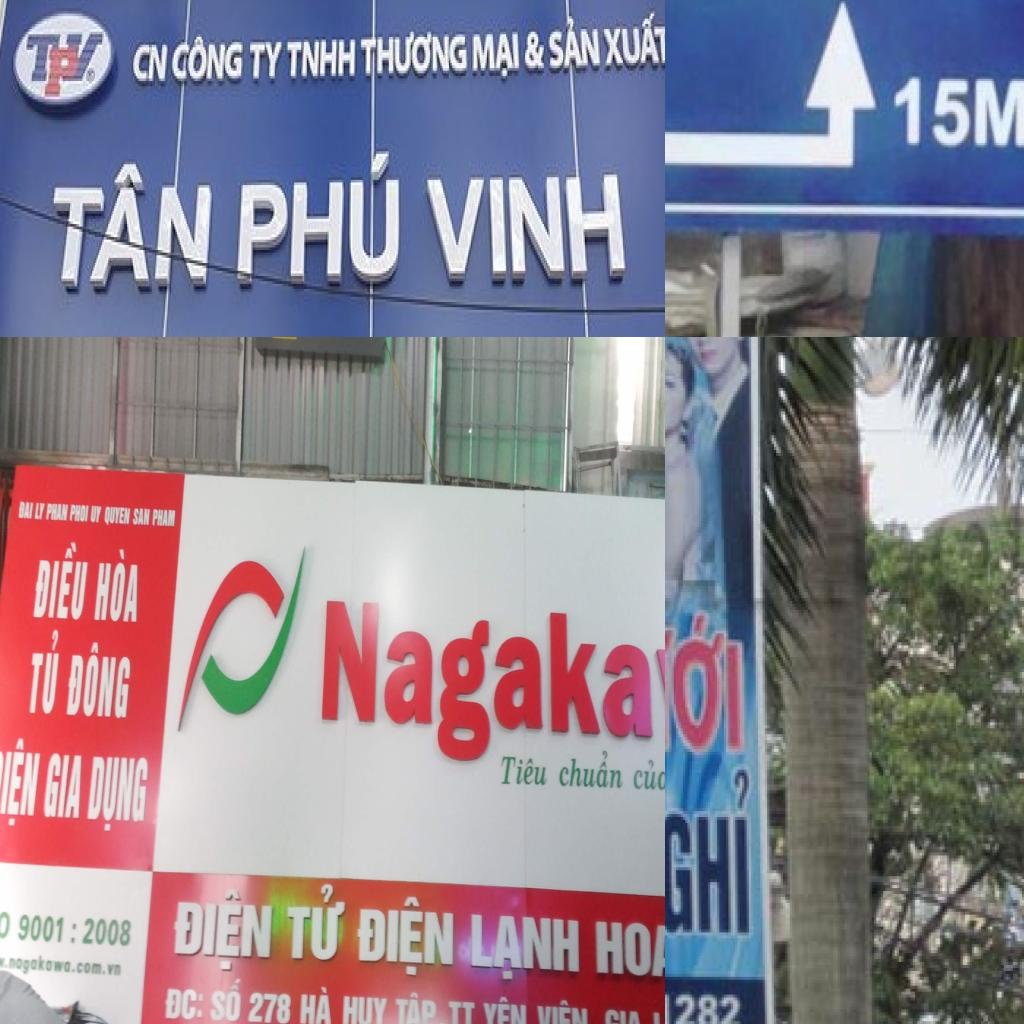text: (319, 596, 665, 769), (231, 141, 411, 299), (46, 151, 230, 302), (422, 164, 634, 292), (665, 763, 758, 941), (665, 613, 746, 758), (354, 890, 455, 980), (168, 890, 274, 972), (471, 915, 580, 985), (360, 27, 469, 81), (65, 640, 132, 723), (282, 883, 347, 964), (86, 754, 148, 838), (31, 536, 90, 624), (171, 29, 249, 89), (599, 6, 665, 76), (596, 921, 665, 984), (285, 32, 360, 89), (0, 734, 42, 831), (93, 543, 139, 626), (0, 951, 123, 981), (546, 16, 601, 81), (468, 26, 523, 86), (558, 747, 624, 792), (27, 628, 61, 715), (40, 752, 82, 821), (132, 29, 172, 92), (26, 26, 61, 89), (247, 34, 287, 89), (14, 910, 68, 949), (44, 44, 82, 96), (81, 914, 133, 948), (533, 996, 596, 1024), (498, 755, 548, 786), (210, 978, 243, 1024), (245, 992, 292, 1024), (396, 990, 438, 1024), (299, 984, 333, 1024), (341, 996, 389, 1024), (483, 995, 528, 1024), (632, 754, 665, 790), (164, 989, 203, 1019), (605, 1007, 646, 1024), (448, 1000, 477, 1024), (46, 501, 70, 525), (69, 502, 91, 525), (104, 508, 130, 526), (151, 510, 177, 528), (0, 908, 12, 941), (133, 508, 151, 528), (18, 500, 35, 521), (34, 502, 46, 524), (91, 506, 103, 523), (70, 920, 78, 945)
